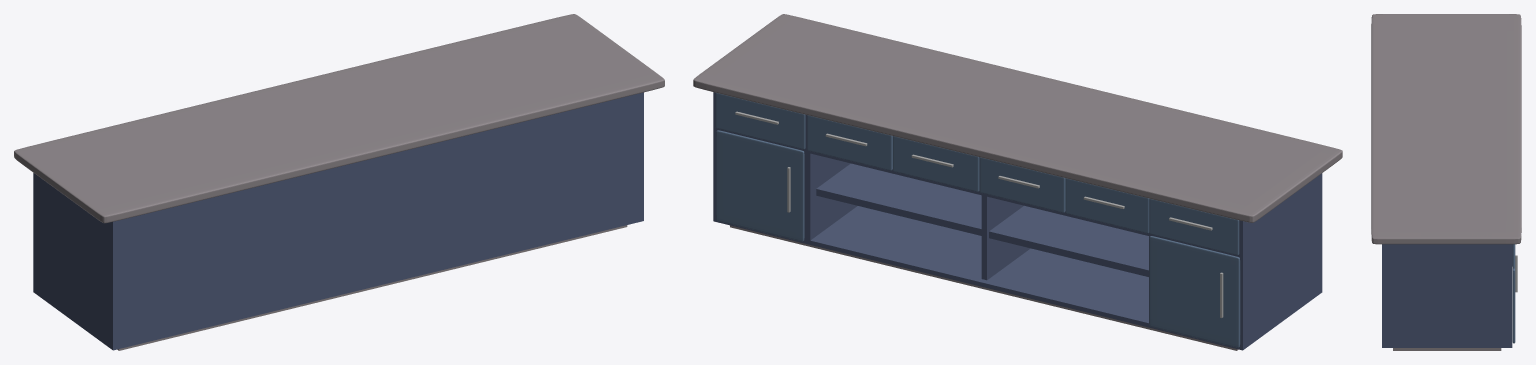
Rendered from ChemistryTable.fbx.
3 renders of one model, left to right at view 1: azimuth 30°, elevation 25°; view 2: azimuth 150°, elevation 25°; view 3: azimuth 270°, elevation 25°, orthographic. The views are drawn at different scales.
Parts seen in each view (by area): view 1: Box, Table, Bottom; view 2: Table, Box, Shelf2, Shelf1, Drawer2, Drawer1, Drawer6, Drawer4, Drawer5, Drawer3, Bottom; view 3: Table, Box, Shelf1, Bottom.
Boxes of the visible parts, left/top/right/bottom form: Box: left=33, top=92, right=643, bottom=350; Table: left=14, top=14, right=664, bottom=223; Bottom: left=117, top=225, right=627, bottom=350; Table: left=693, top=14, right=1342, bottom=222; Box: left=713, top=92, right=1322, bottom=350; Shelf2: left=1149, top=236, right=1240, bottom=347; Shelf1: left=716, top=130, right=804, bottom=241; Drawer2: left=1149, top=199, right=1239, bottom=255; Drawer1: left=715, top=93, right=805, bottom=149; Drawer6: left=893, top=136, right=979, bottom=191; Drawer4: left=979, top=157, right=1065, bottom=212; Drawer5: left=807, top=115, right=892, bottom=170; Drawer3: left=1065, top=178, right=1149, bottom=233; Bottom: left=730, top=225, right=1238, bottom=350; Table: left=1371, top=14, right=1521, bottom=244; Box: left=1382, top=244, right=1512, bottom=347; Shelf1: left=1512, top=244, right=1515, bottom=343; Bottom: left=1393, top=348, right=1501, bottom=350.
Bounding box in the file's own units: 394 × 101 × 111.
